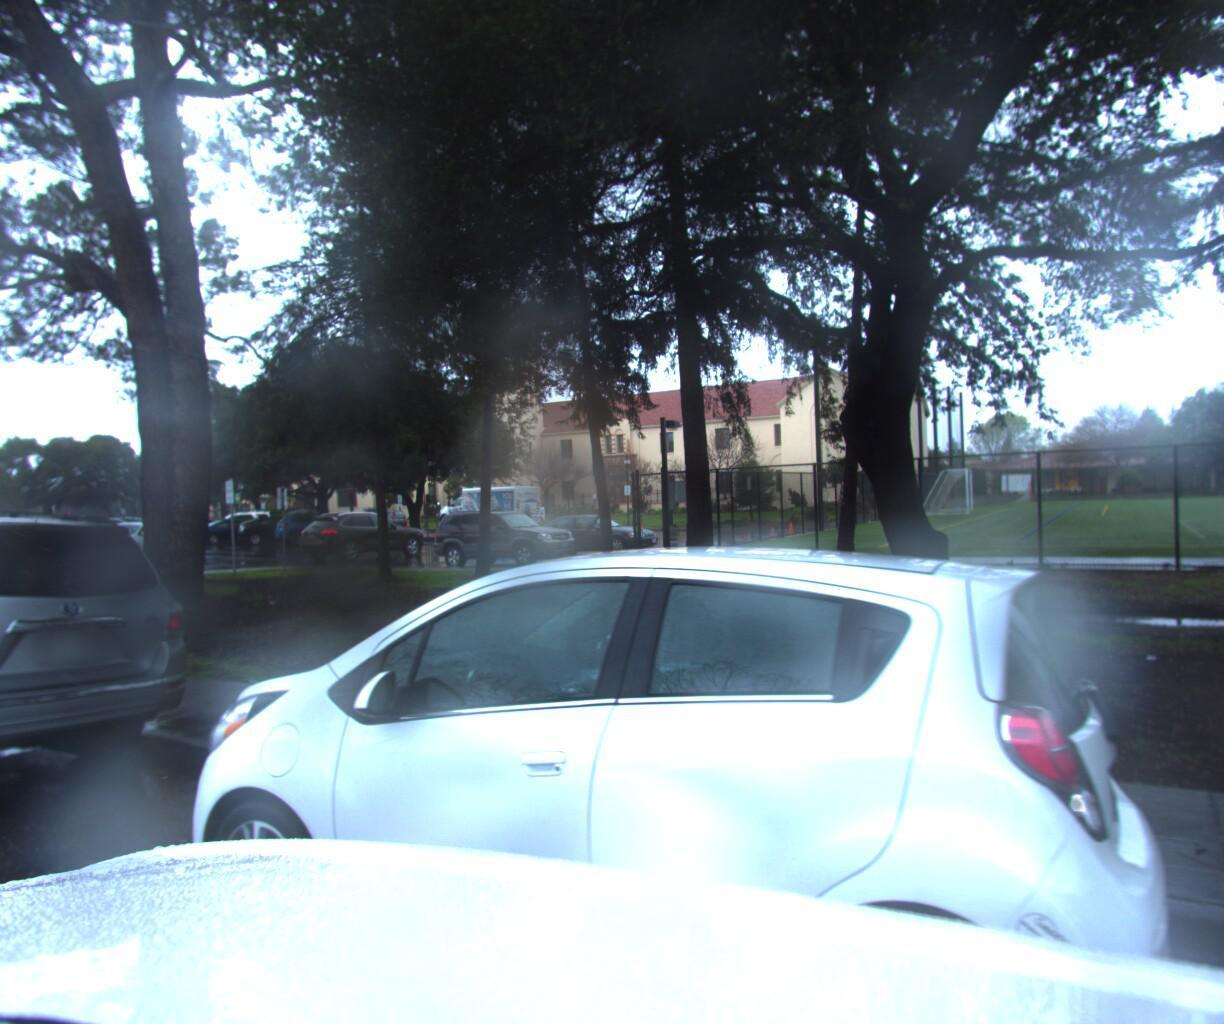car: (88, 533, 1180, 1024), (0, 497, 207, 867)
